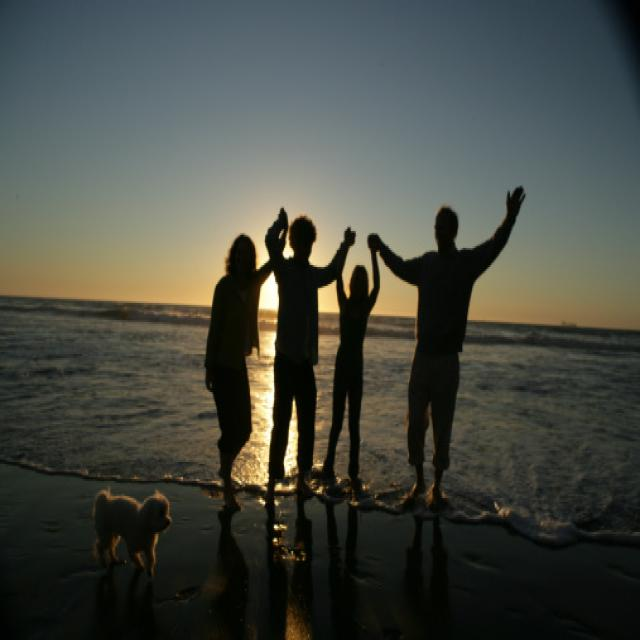Dog: (73, 479, 200, 580)
